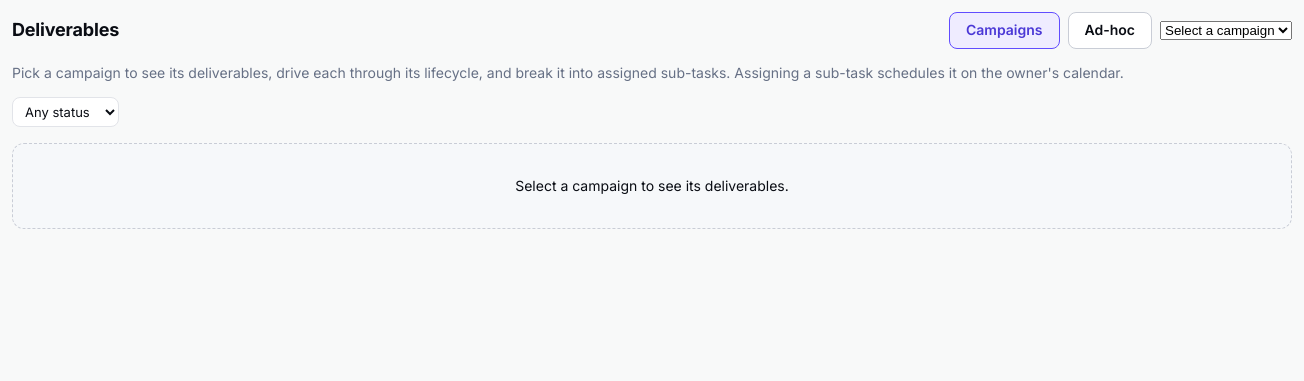
Test: DeliverablesPage (ADR-0024, I2 breakdown surface) › says NOT STARTED when the work is assigned and nobody has pressed Start
Select "Spring Launch" in the dropdown with test id "deliverables-campaign" at (1226, 30), box [1160,21,1292,40]
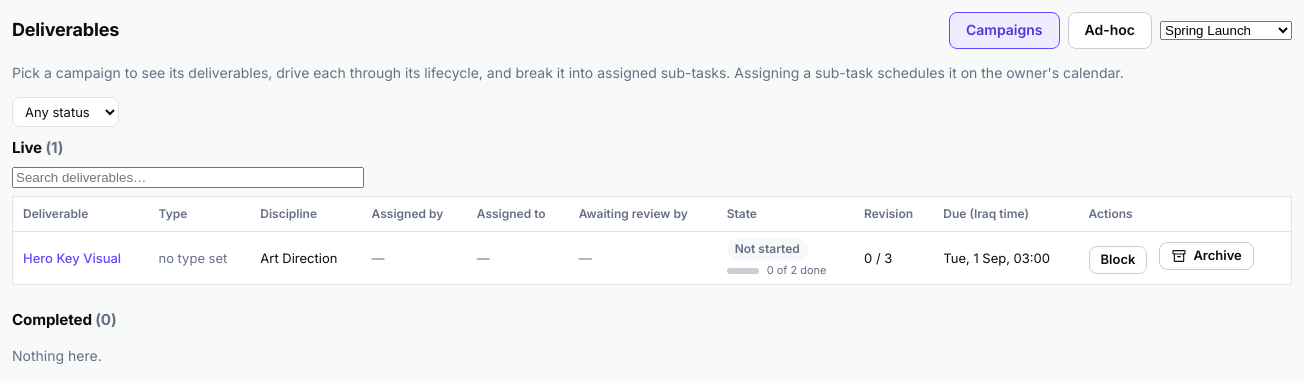
Now the cell with test id "deliverable-phase-d1" shows "Not started", box [735,240,800,256]
Now the element with test id "progress-bar-d1" reads "0 of 2 done", box [767,262,826,276]
